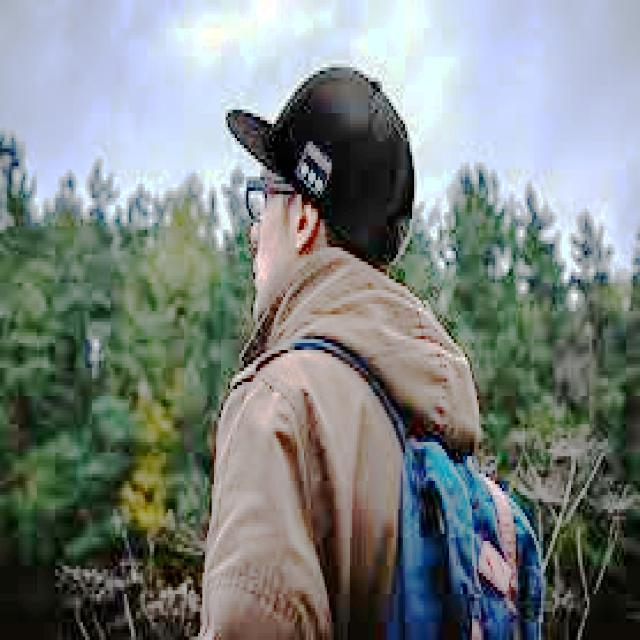TOPI: (223, 53, 412, 272)
